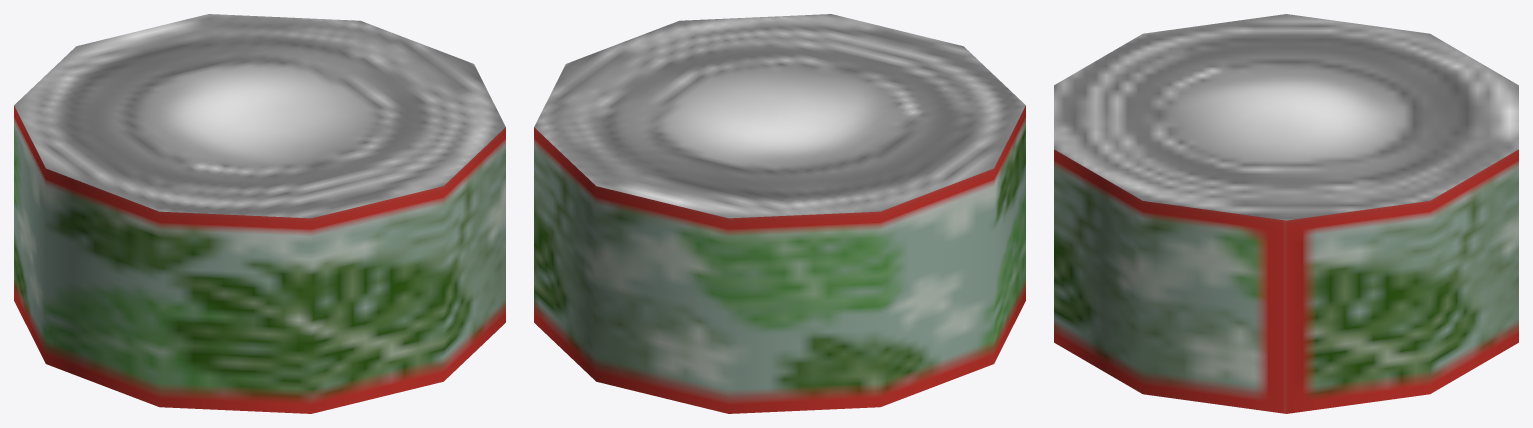
The model's file is giftgoods084a.fbx.
3 views of the same model, side by side, from view 1: azimuth 30°, elevation 25°; view 2: azimuth 150°, elevation 25°; view 3: azimuth 270°, elevation 25° (orthographic).
Parts seen in each view (by area): view 1: giftgoods084a; view 2: giftgoods084a; view 3: giftgoods084a.
Part boxes in pixels (x1=…): giftgoods084a: x1=14, y1=14, x2=505, y2=413; giftgoods084a: x1=534, y1=14, x2=1025, y2=413; giftgoods084a: x1=1054, y1=14, x2=1518, y2=413.
Bounding box in the file's own units: 0.1255 × 0.0548 × 0.1193.
